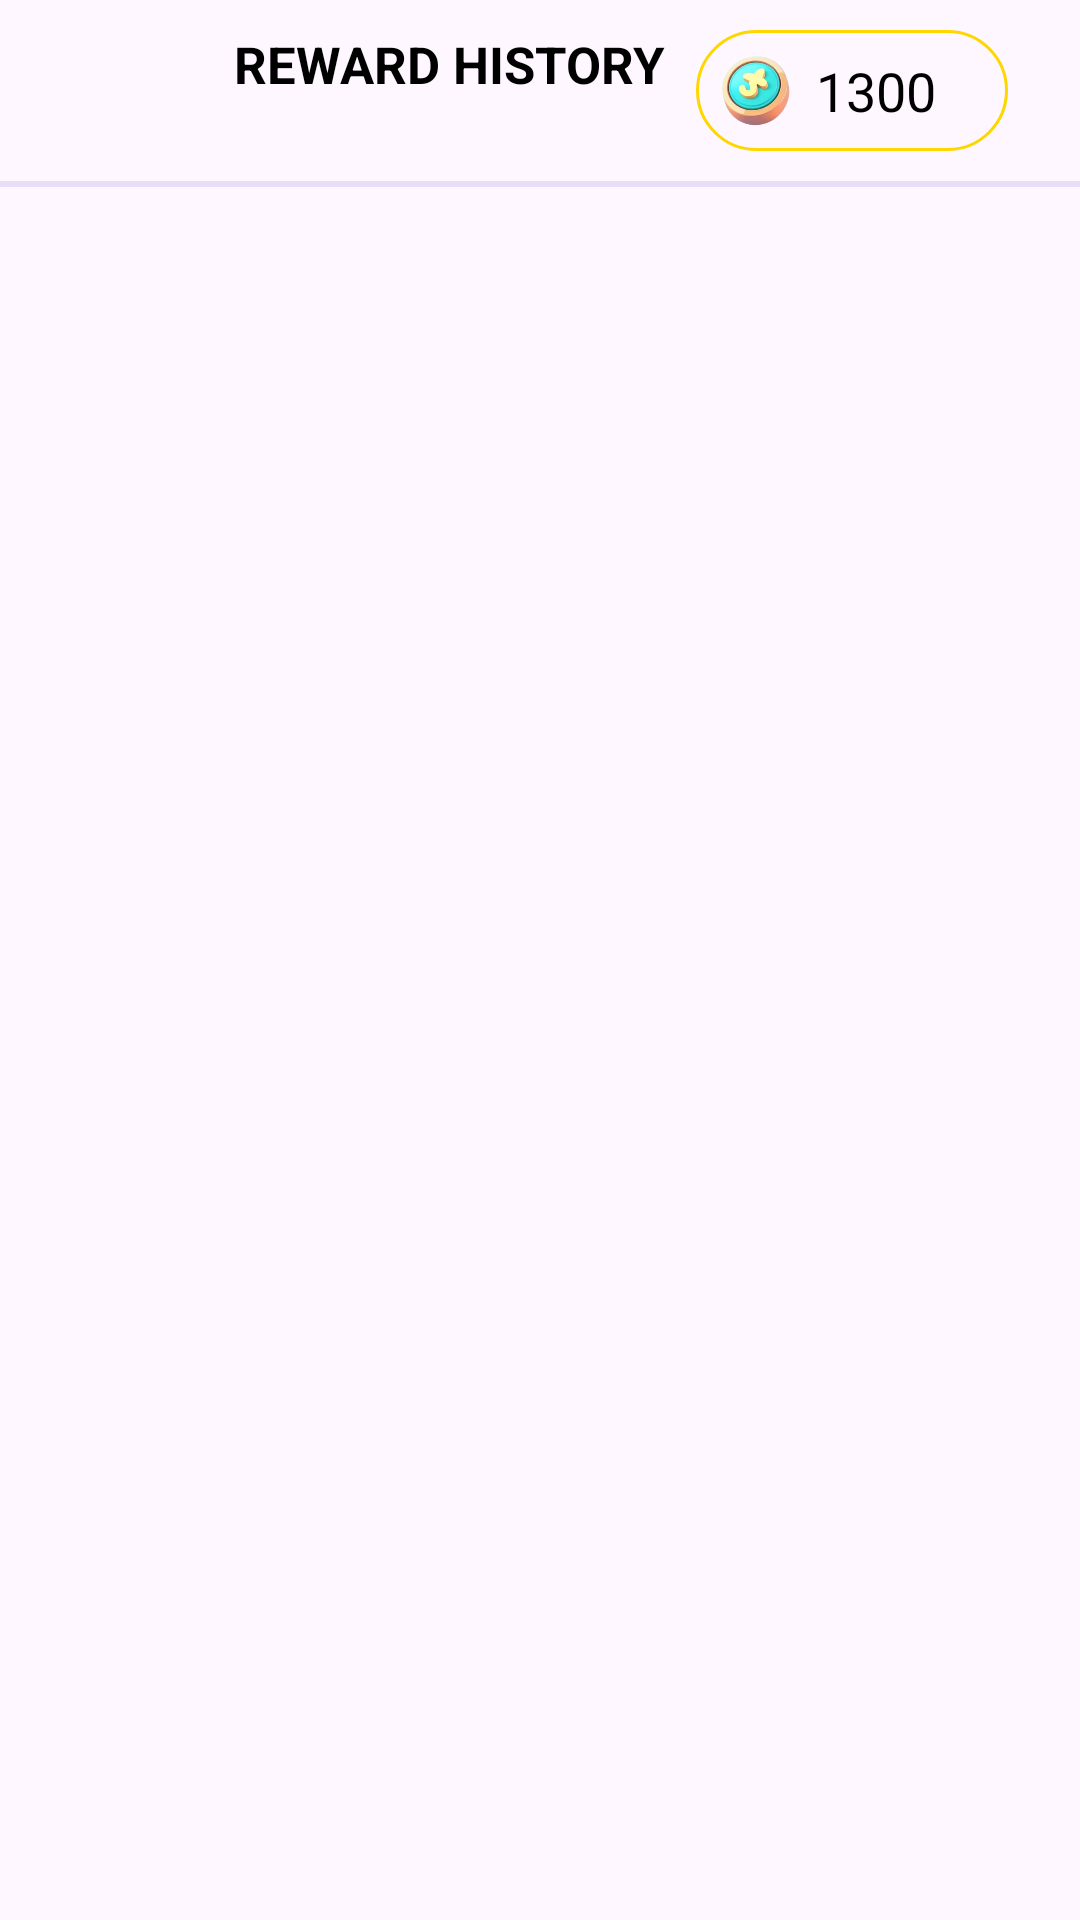

Where to tap for icons on this 1080 x 1920 app screen, as (x=x, y=y):
coin: (x=756, y=91)
